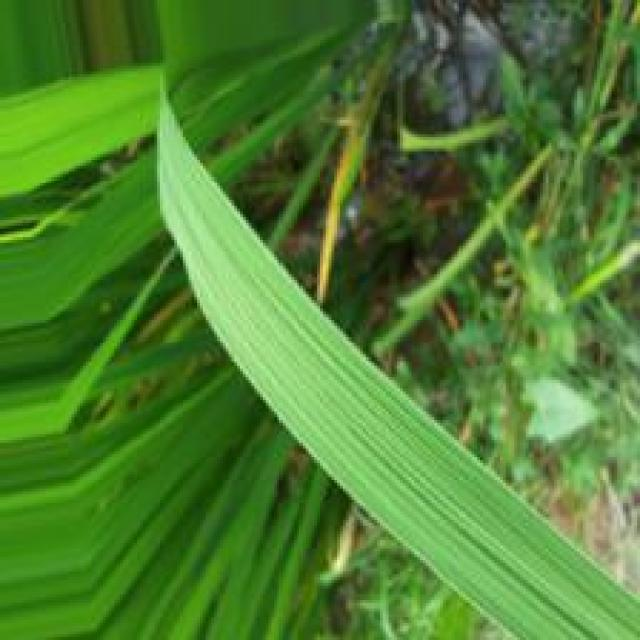HealthyLeaf: (291, 311, 638, 639)
